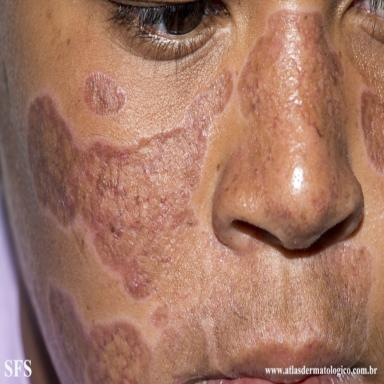Lupus-Erythematosus-Chronicus-Discoides: (23, 66, 378, 384), (239, 10, 343, 135), (361, 91, 384, 175), (83, 72, 125, 116)
